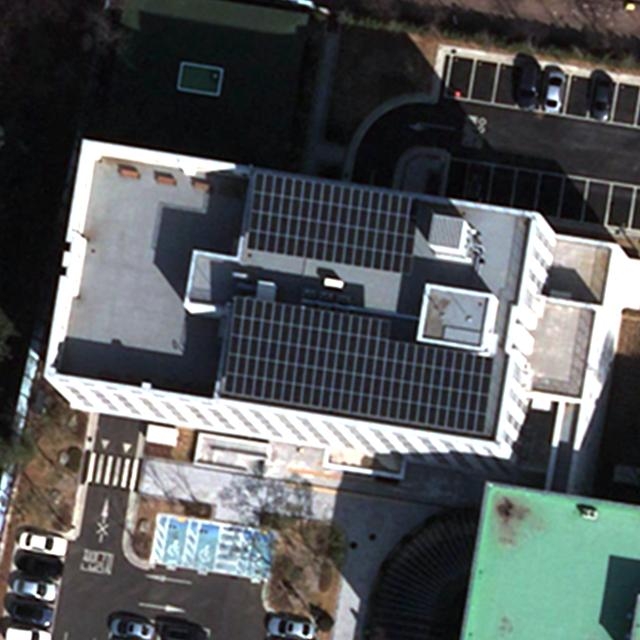solarpanel: (216, 295, 490, 437), (240, 170, 425, 280)
